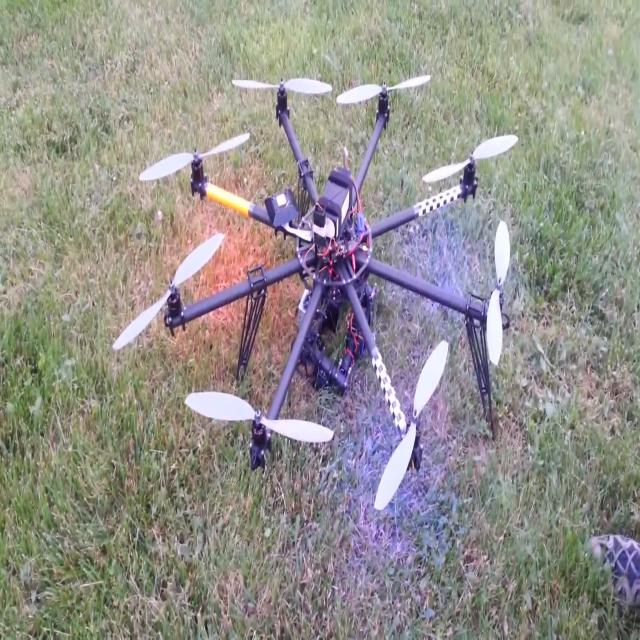drone: (117, 58, 517, 507)
